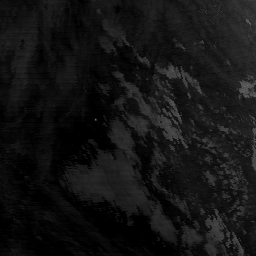Target: (92, 116, 97, 122)
